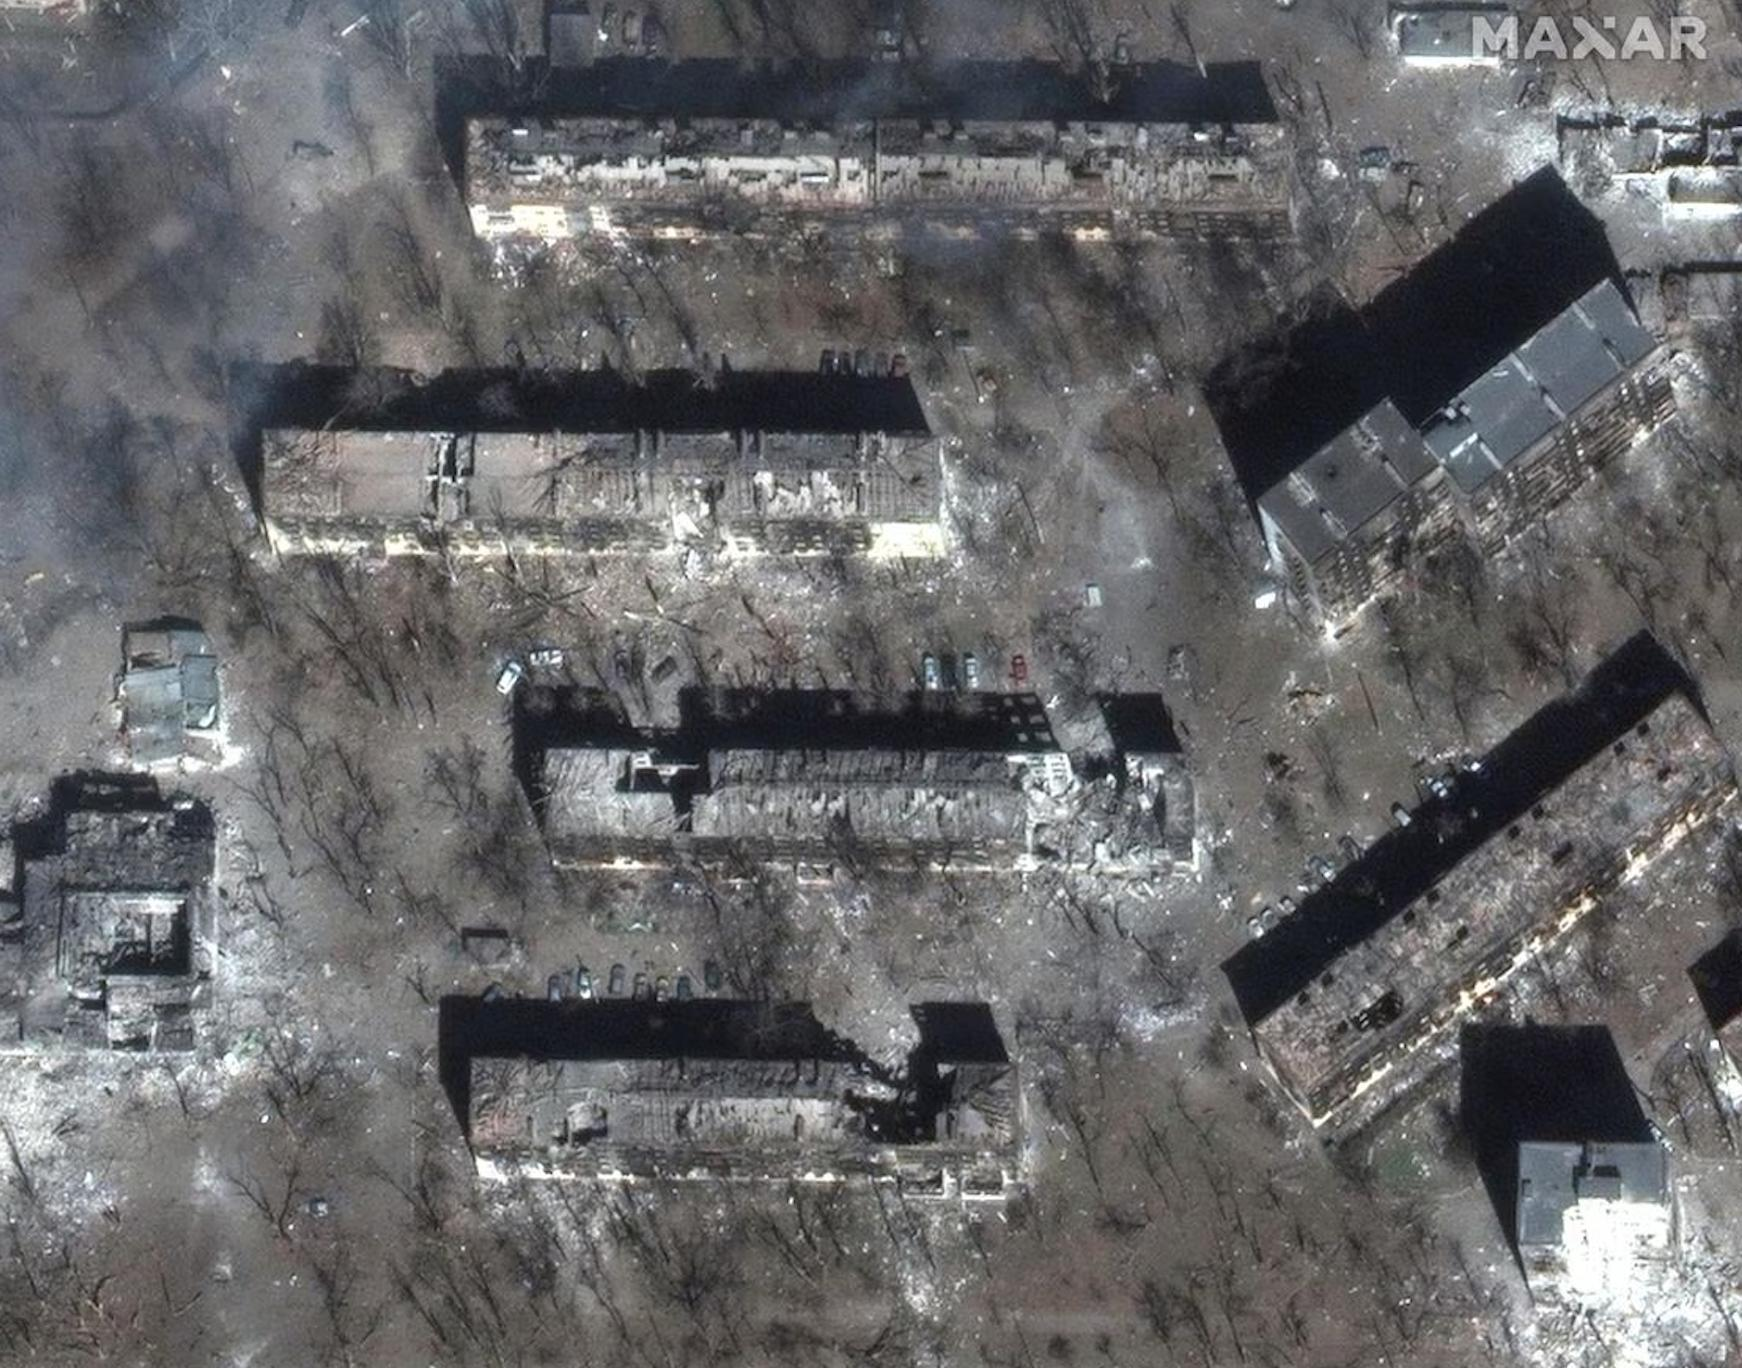demaged-building-high: (469, 115, 1294, 219), (544, 747, 1213, 870), (461, 1053, 1022, 1187), (0, 802, 215, 1075)
demaged-building-low: (1267, 692, 1742, 1202)
demaged-building-medium: (273, 433, 950, 549)
